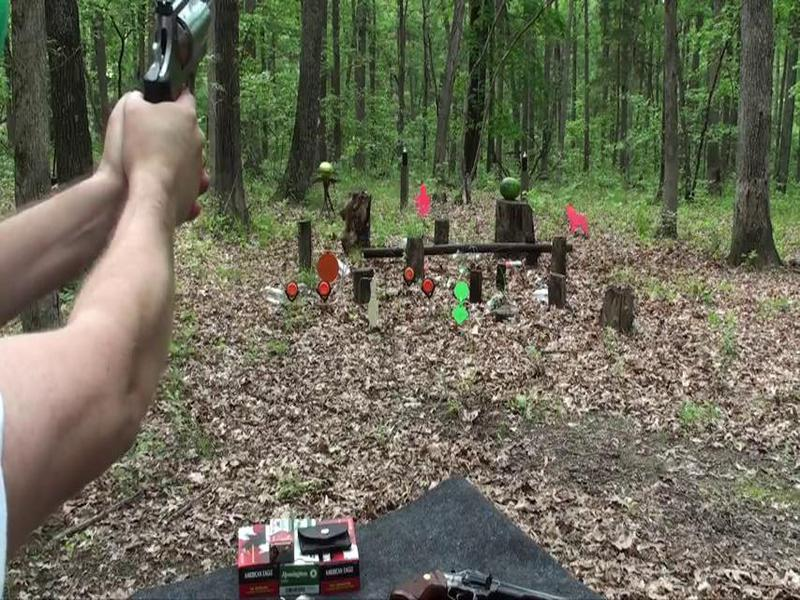Revolver: (127, 1, 228, 126)
